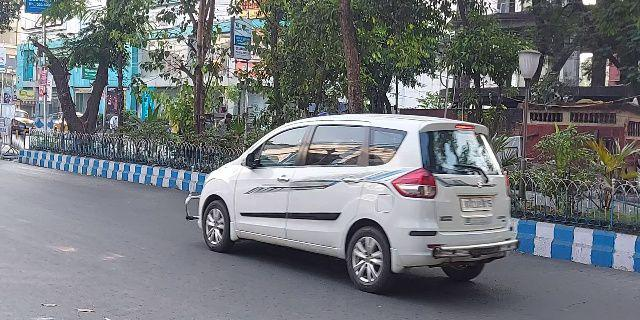Car: (184, 106, 514, 287)
